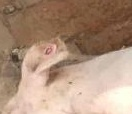text: (35, 37, 64, 62)
